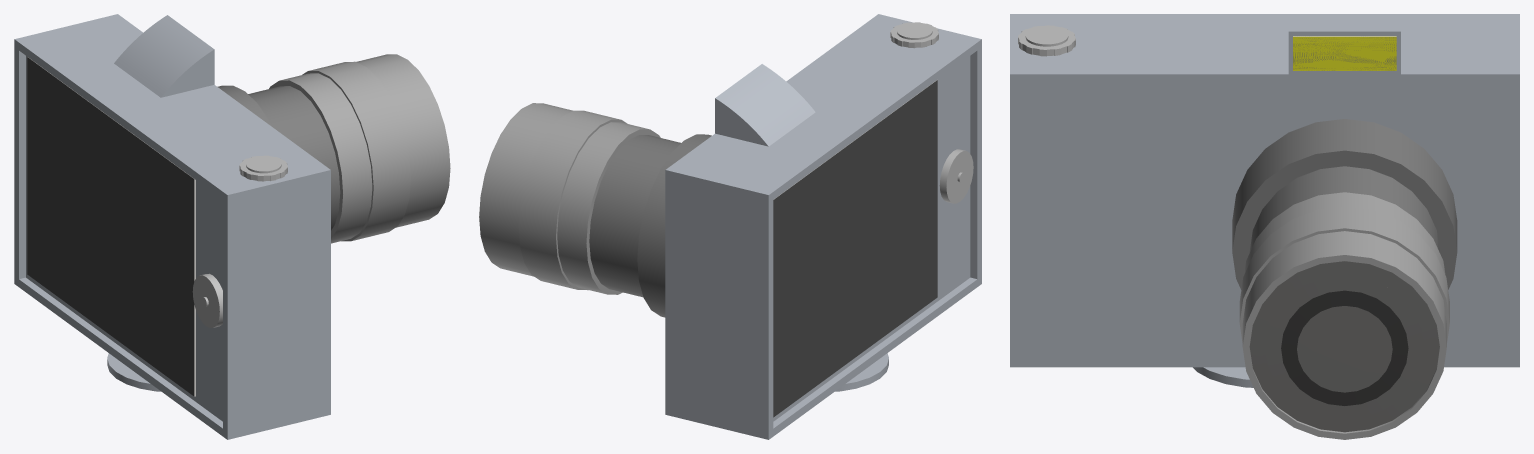
Rendered from camera_light_centered.dae.
3 views of the same model, side by side, from view 1: azimuth 30°, elevation 25°; view 2: azimuth 150°, elevation 25°; view 3: azimuth 270°, elevation 25° (orthographic). The views are drawn at different scales.
Visible parts, largest first — view 1: SketchUp (×13); view 2: SketchUp (×12); view 3: SketchUp (×17).
Part boxes in pixels (box(x1,y1,x2,y2)): SketchUp (×13): box(14, 14, 450, 439); SketchUp (×12): box(479, 14, 981, 439); SketchUp (×17): box(1010, 14, 1519, 439).
Size of the model in its own units: 15.09 by 16.91 by 12.94.
